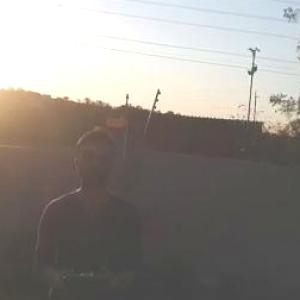follow: (29, 121, 150, 299)
